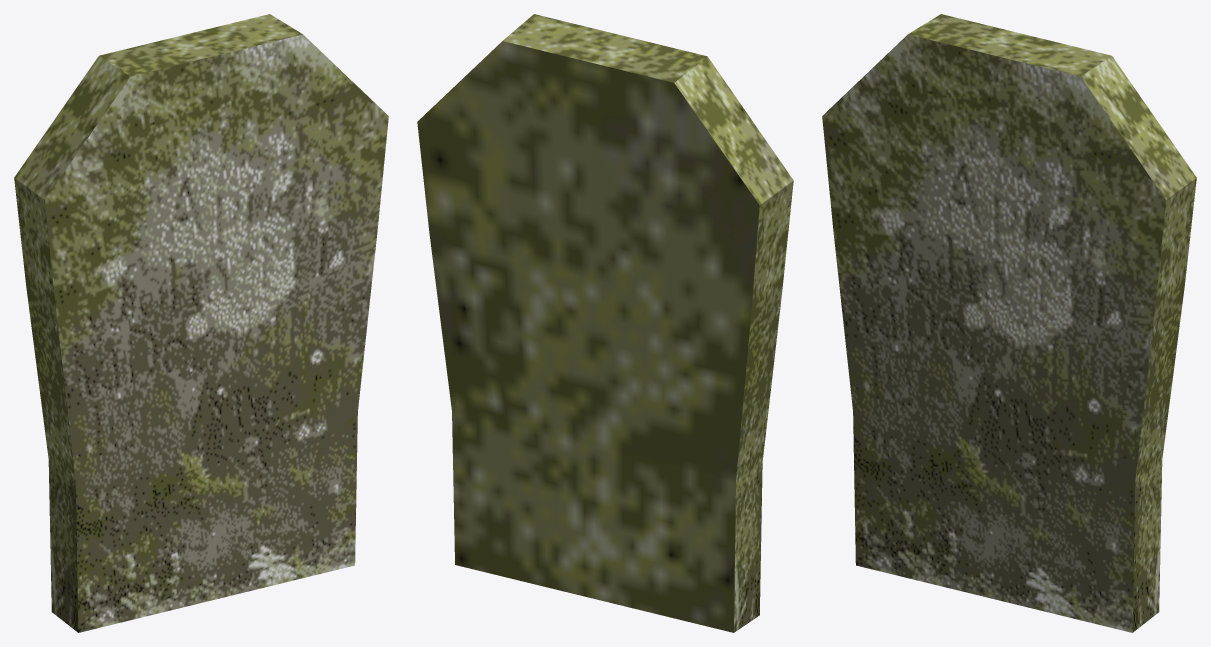
The model's file is tomb.fbx.
3 renders of one model, left to right at view 1: azimuth 30°, elevation 25°; view 2: azimuth 150°, elevation 25°; view 3: azimuth 330°, elevation 25°, orthographic.
Parts seen in each view (by area): view 1: Tomb; view 2: Tomb; view 3: Tomb.
Boxes of the visible parts, x1=… form: Tomb: x1=14, y1=14, x2=388, y2=632; Tomb: x1=417, y1=14, x2=793, y2=632; Tomb: x1=822, y1=14, x2=1196, y2=632.
Size of the model in its own units: 84.21 by 127 by 13.71.
